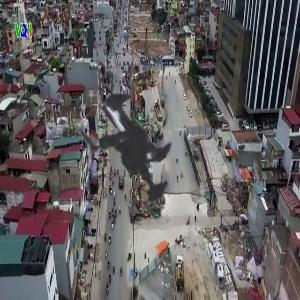drone: (28, 28, 256, 256)
